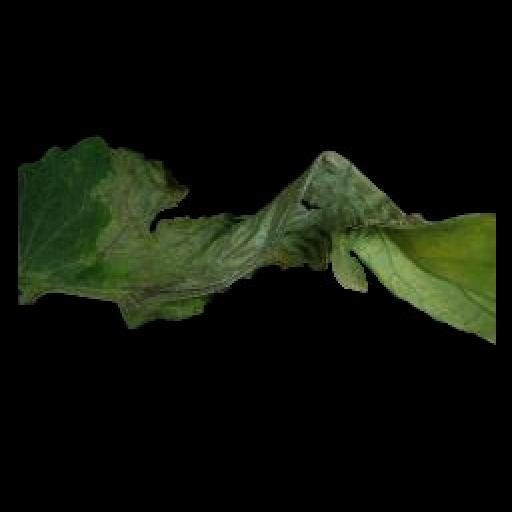disease_tomato: (20, 133, 494, 352)
